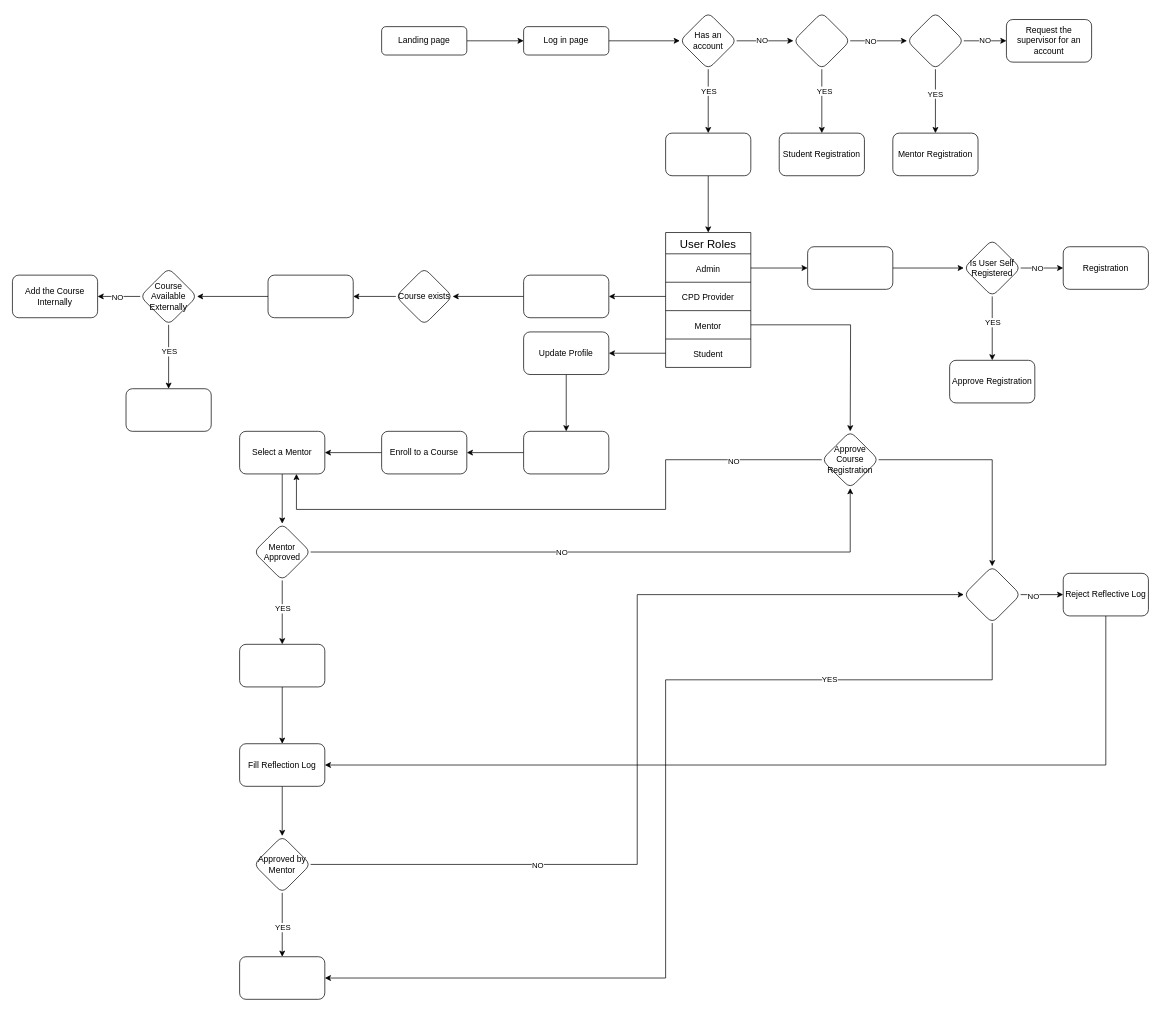
Some shapes in this 1161 by 1012 pixel diagram are drawn without their labels. Each missing label, with the centre of its shape:
"Add Course" belongs at (310,296).
"Complete the Course" belongs at (282,665).
"Course Management" belongs at (566,296).
"Is a Mentor" belongs at (935,40).
"Is a Student" belongs at (821,40).
"Link to Existing course" belongs at (168,409).
"Login" belongs at (708,154).
"Mark/ Approve Reflective Log" belongs at (992,594).
"Receive CPD Points" belongs at (282,977).
"User Management" belongs at (850,267).
"View Available Courses" belongs at (566,452).
